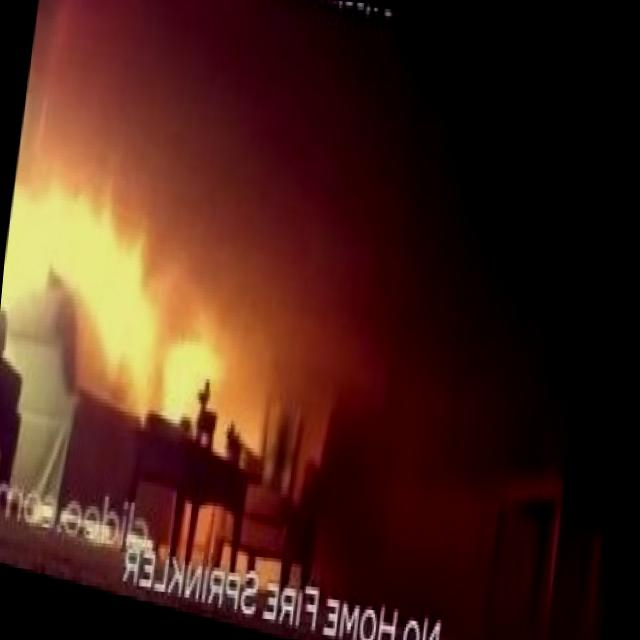fire: (0, 145, 259, 453)
